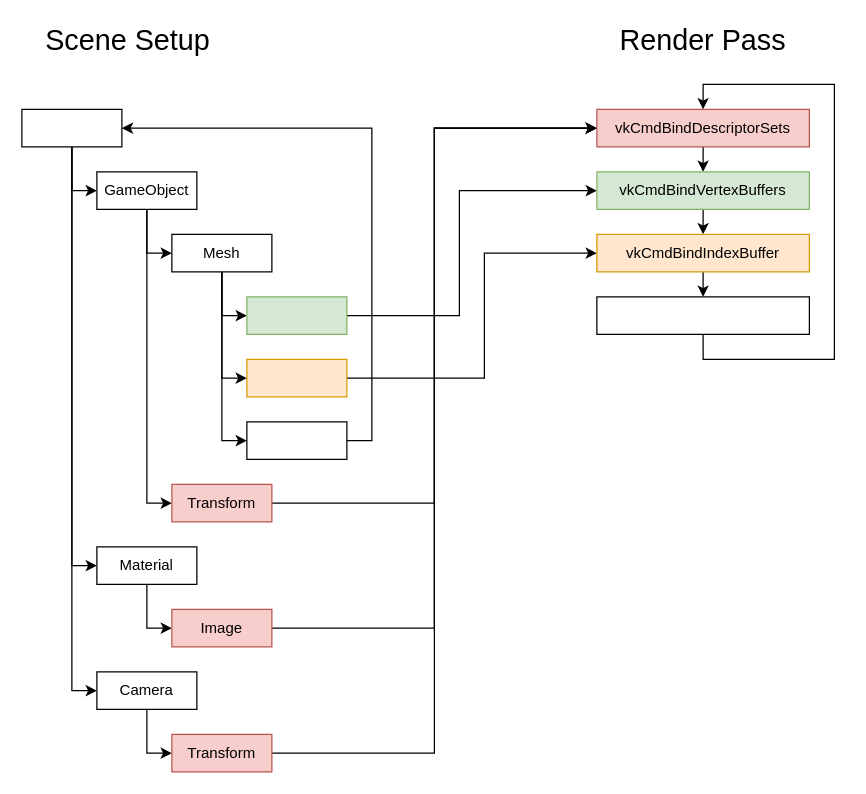
This 866x794 diagram has some shape labels left out. The shapes that lost their labels are listed below. From the top down, each one's centre as x and y in pixels, then its label:
At pixel 71 127: "Scene".
At pixel 296 315: "Vertices".
At pixel 702 315: "vkCmdDrawIndexed".
At pixel 296 377: "Indices".
At pixel 296 440: "MaterialIndex".
